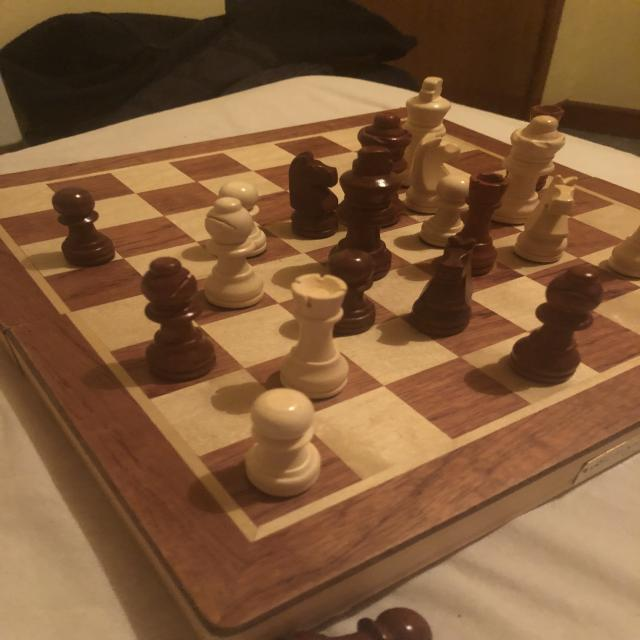black_bishop: (514, 267, 608, 389), (142, 256, 216, 382)
black_king: (329, 146, 391, 279)
black_knight: (415, 233, 474, 335), (286, 151, 340, 236)
black_pawn: (48, 186, 120, 268), (333, 250, 376, 332)
black_queen: (360, 114, 411, 148)
black_rook: (468, 169, 511, 273)
white_bishop: (208, 198, 264, 307)
white_king: (406, 77, 450, 133)
white_knight: (514, 174, 580, 262), (412, 134, 458, 212)
white_pawn: (250, 389, 320, 498), (419, 179, 469, 243), (220, 180, 264, 210)
white_queen: (494, 117, 565, 224)
white_rook: (280, 274, 354, 396)
